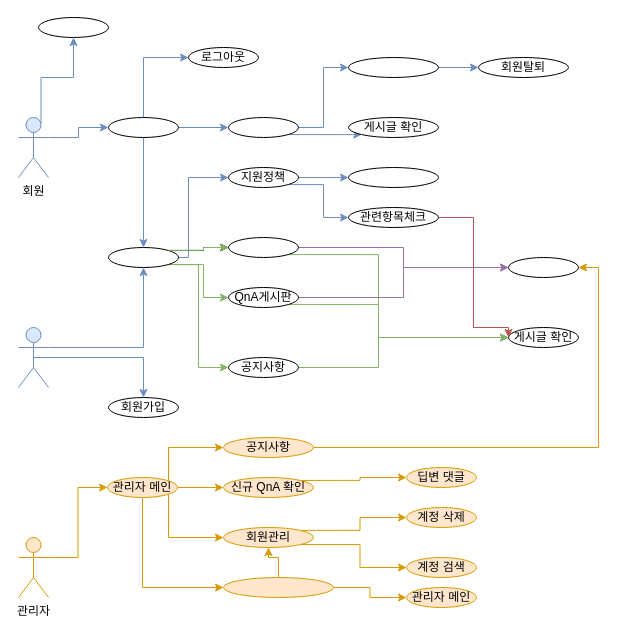
Some shapes in this 624 by 636 pixel diagram are drawn without their labels. Here are the shapes that lost their labels. From the top down, the centre of each, then its label:
the point at 73,27: 계정찾기
the point at 393,67: 회원정보수정
the point at 143,127: 로그인
the point at 263,127: 마이페이지
the point at 393,177: 정보등록요청
the point at 143,257: 메인페이지
the point at 263,247: 자유게시판
the point at 543,267: 글쓰기
the point at 33,357: 비회원
the point at 278,587: 정보등록요청확인
